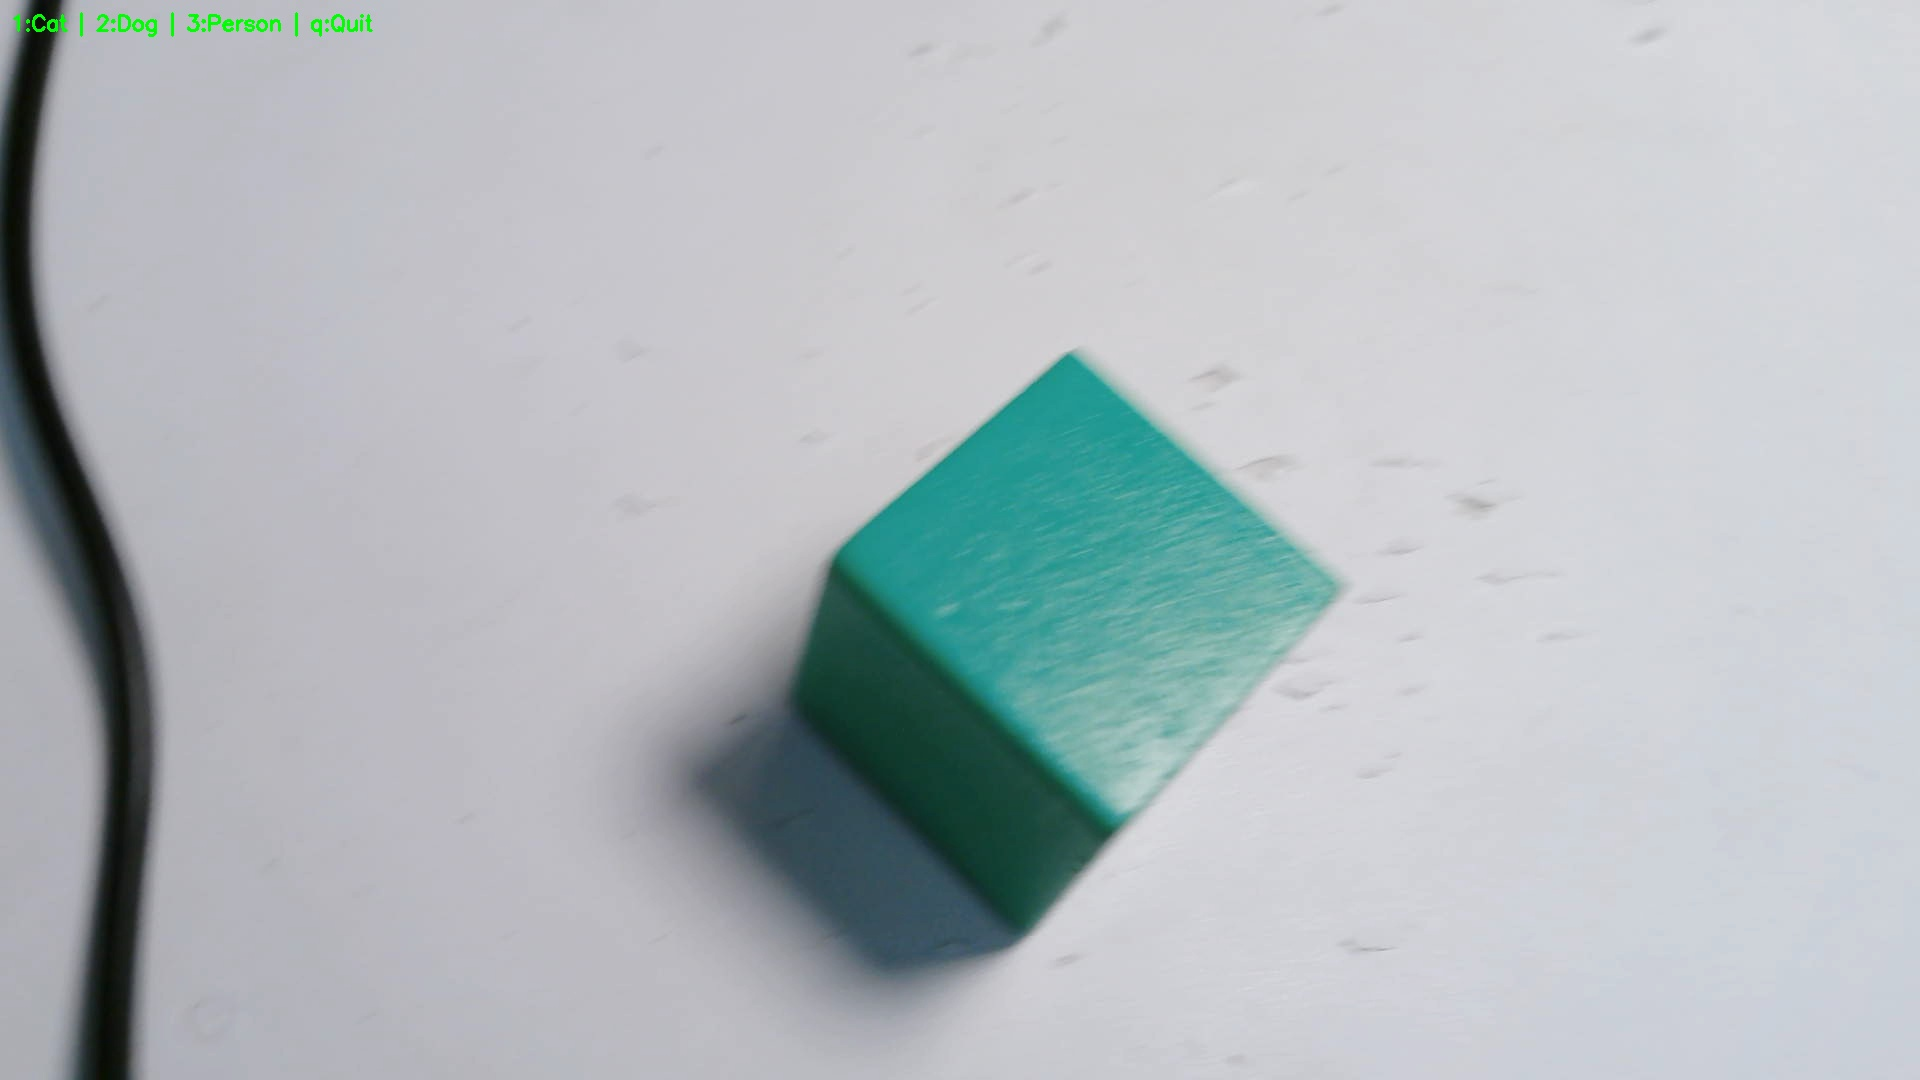green: (795, 355, 1341, 940)
